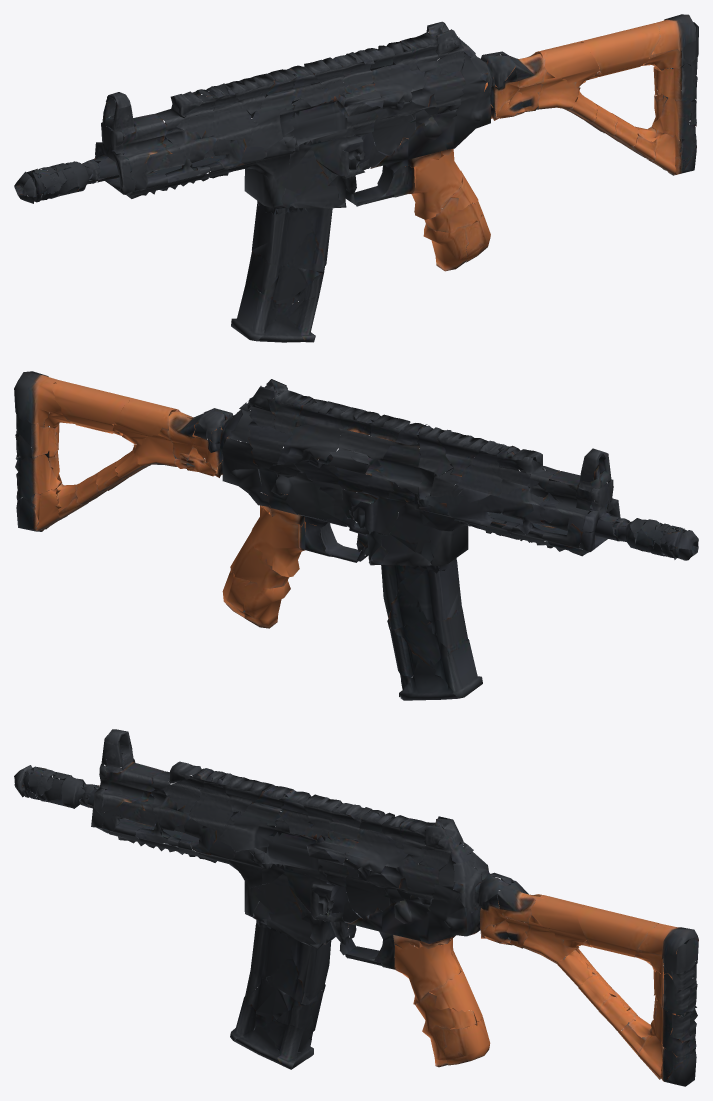
File: smg-meshy-low.glb
3 views of the same model, one above another, from view 1: azimuth 30°, elevation 25°; view 2: azimuth 150°, elevation 25°; view 3: azimuth 330°, elevation 25° (orthographic).
Visible parts, largest first — view 1: Mesh_0.001; view 2: Mesh_0.001; view 3: Mesh_0.001.
Boxes of the visible parts, <box> form: Mesh_0.001: <box>14,14,698,342</box>; Mesh_0.001: <box>14,371,698,700</box>; Mesh_0.001: <box>14,729,698,1086</box>.
Bounding box in the file's own units: 1.9 × 0.7718 × 0.1934.
Materials: 1 (1 with a texture image).
